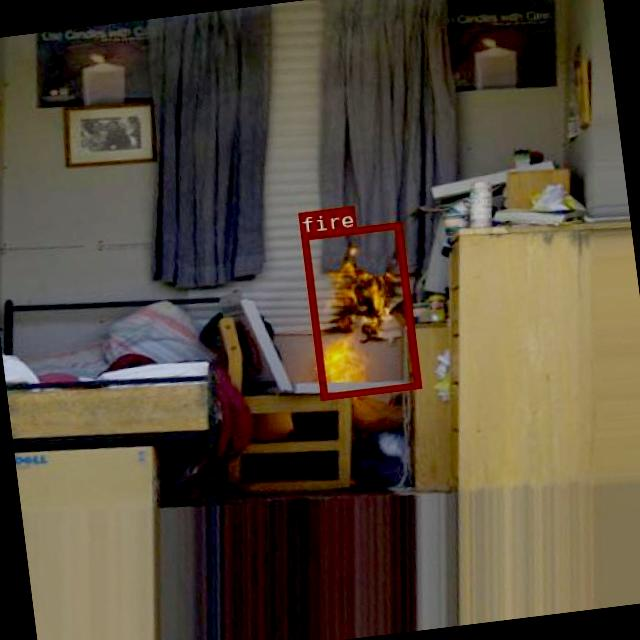fire: (300, 221, 419, 398)
